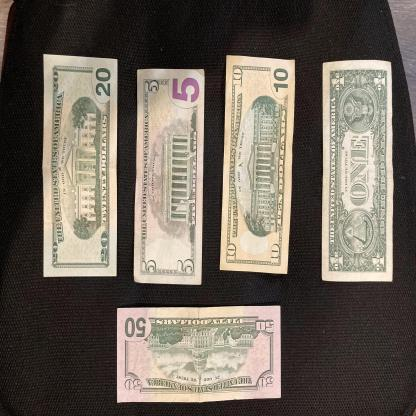fifty-back: (116, 305, 282, 403)
five-back: (133, 68, 206, 286)
one-back: (321, 60, 394, 282)
ten-back: (218, 55, 297, 275)
twenty-back: (43, 54, 118, 277)
